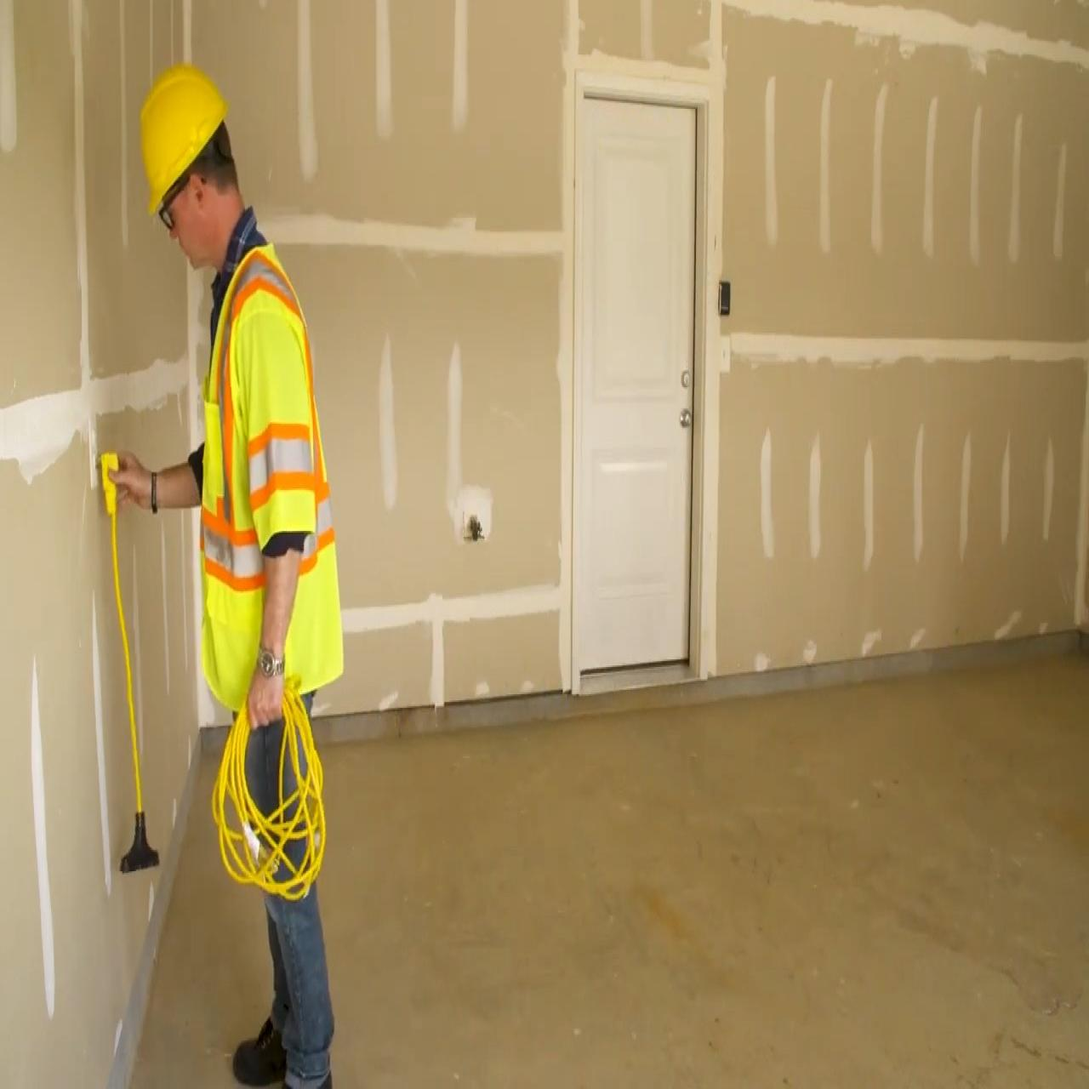NO_Safety_Vest: (198, 242, 342, 634)
Person: (101, 62, 349, 1089)
